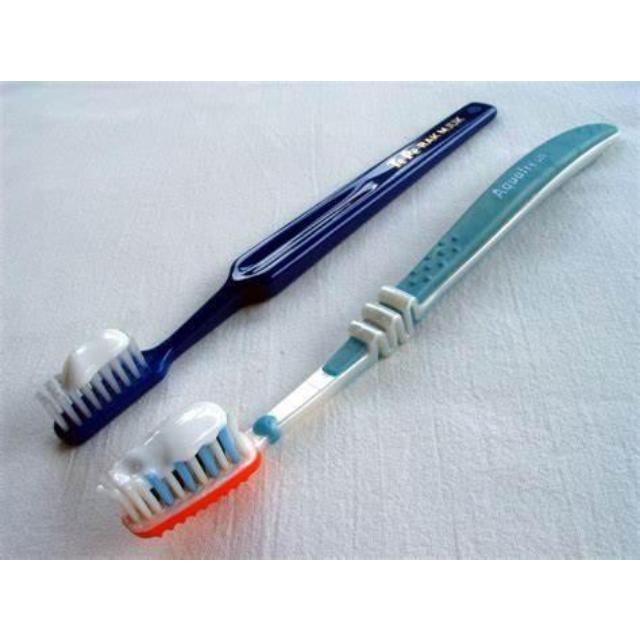toothbrush: (104, 384, 308, 560)
